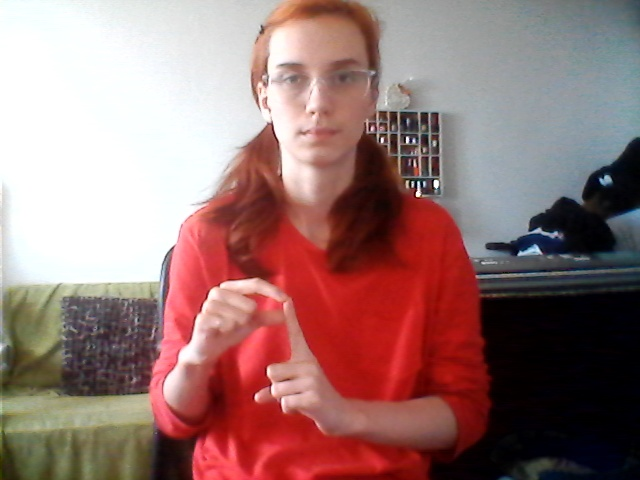p: (183, 269, 346, 452)
